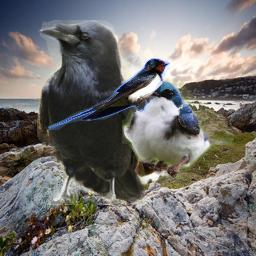Crow: (37, 20, 145, 205)
Swallow: (122, 80, 234, 179), (47, 58, 170, 130)
